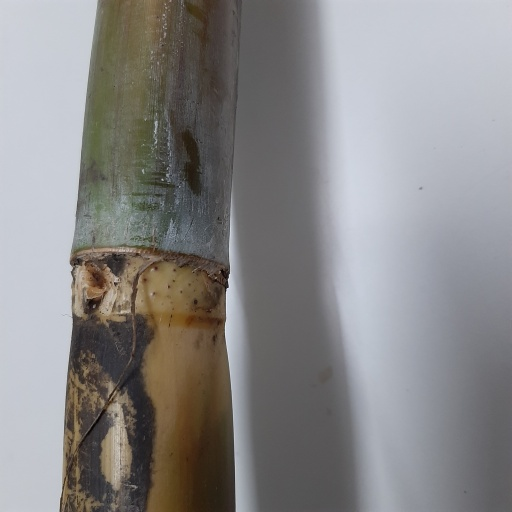Damage_Bud: (74, 260, 111, 312)
